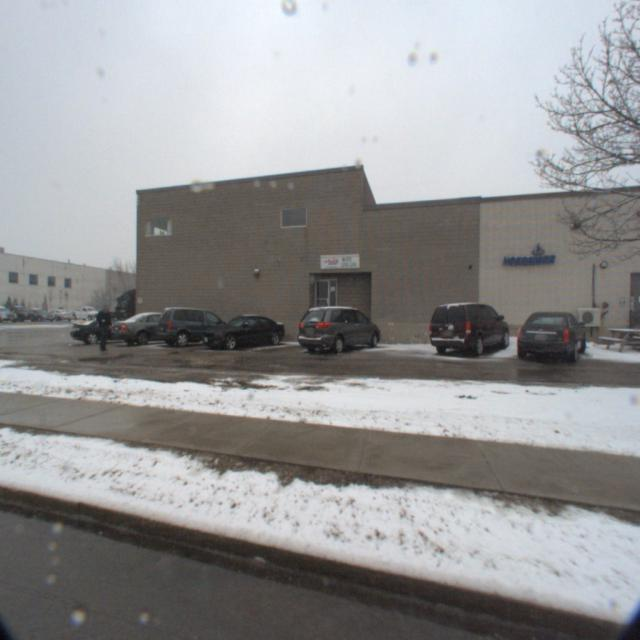Car: (423, 298, 507, 358), (292, 304, 382, 357), (508, 306, 581, 366), (197, 312, 287, 352), (152, 308, 236, 350), (106, 312, 192, 348), (66, 318, 148, 348)
Pedestrian: (94, 308, 120, 356)
Truck: (92, 278, 254, 331), (64, 307, 102, 322)
